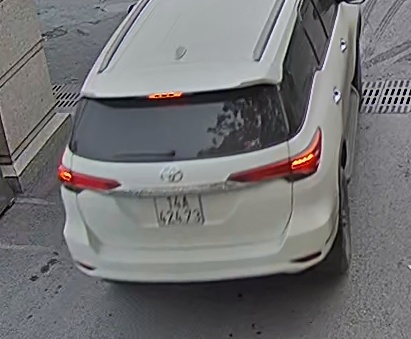vehicle plate: (150, 187, 205, 226)
